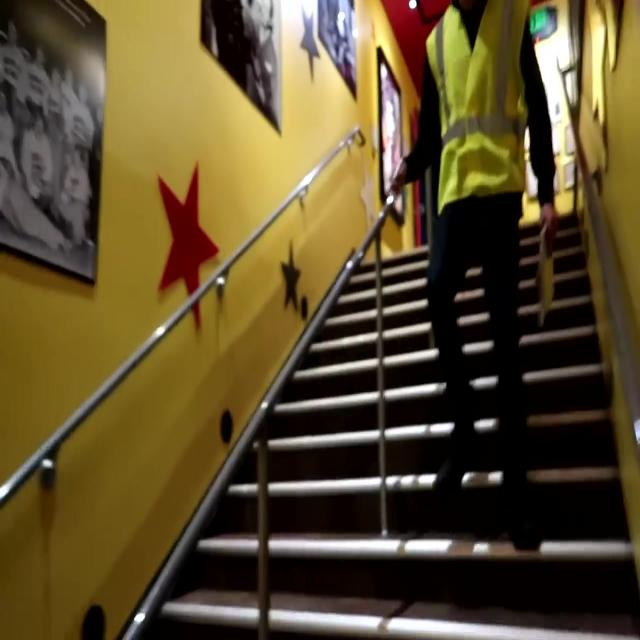Reflective-Jacket: (414, 5, 550, 226)
